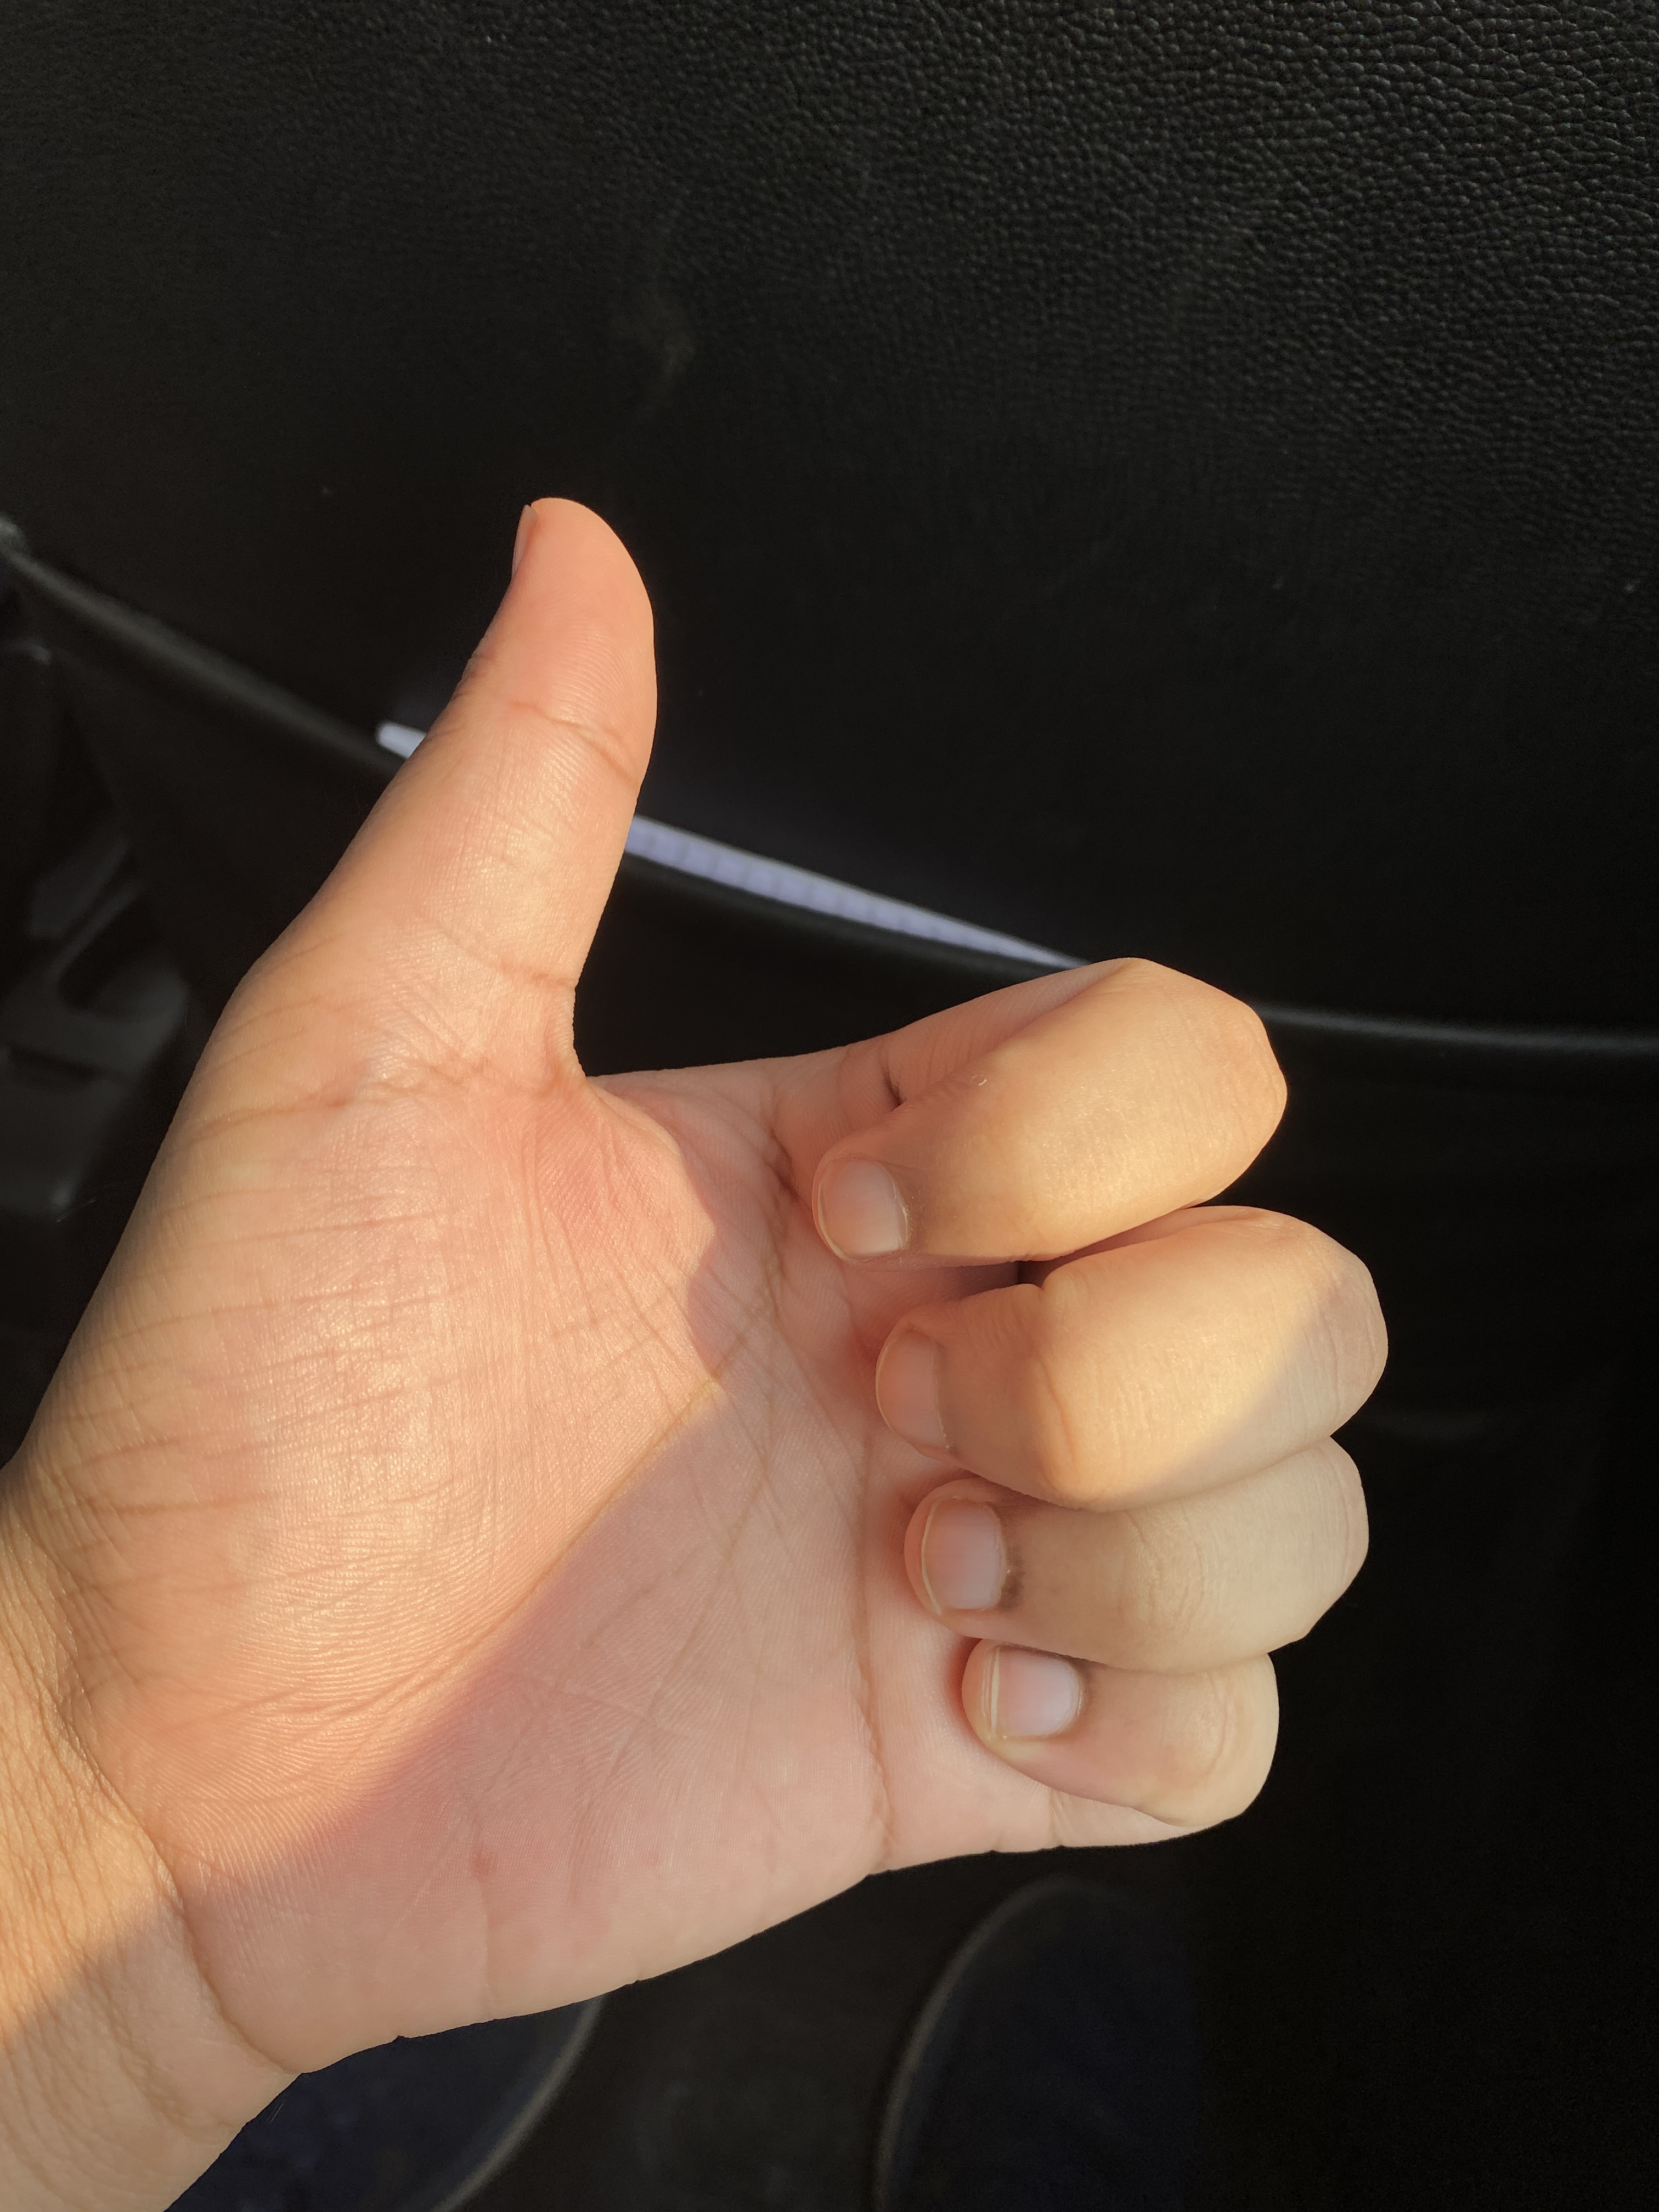up: (12, 421, 1547, 2118)
